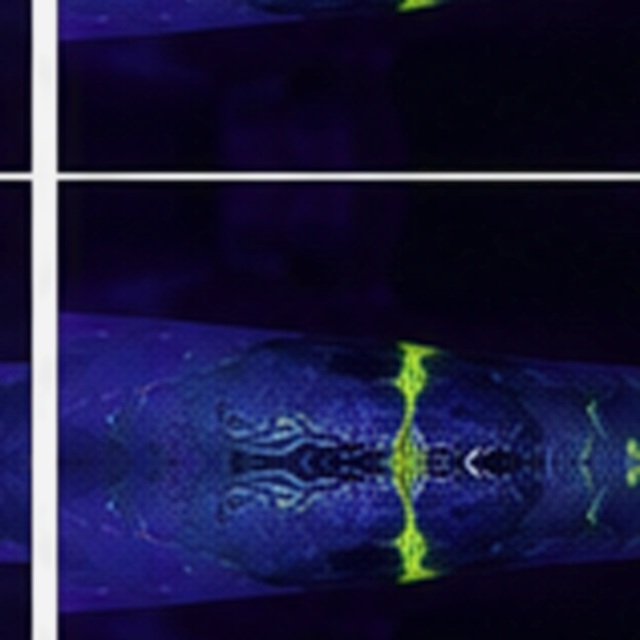hydraulic_oil_leak: (385, 343, 435, 580), (586, 402, 596, 421), (582, 446, 589, 456)
